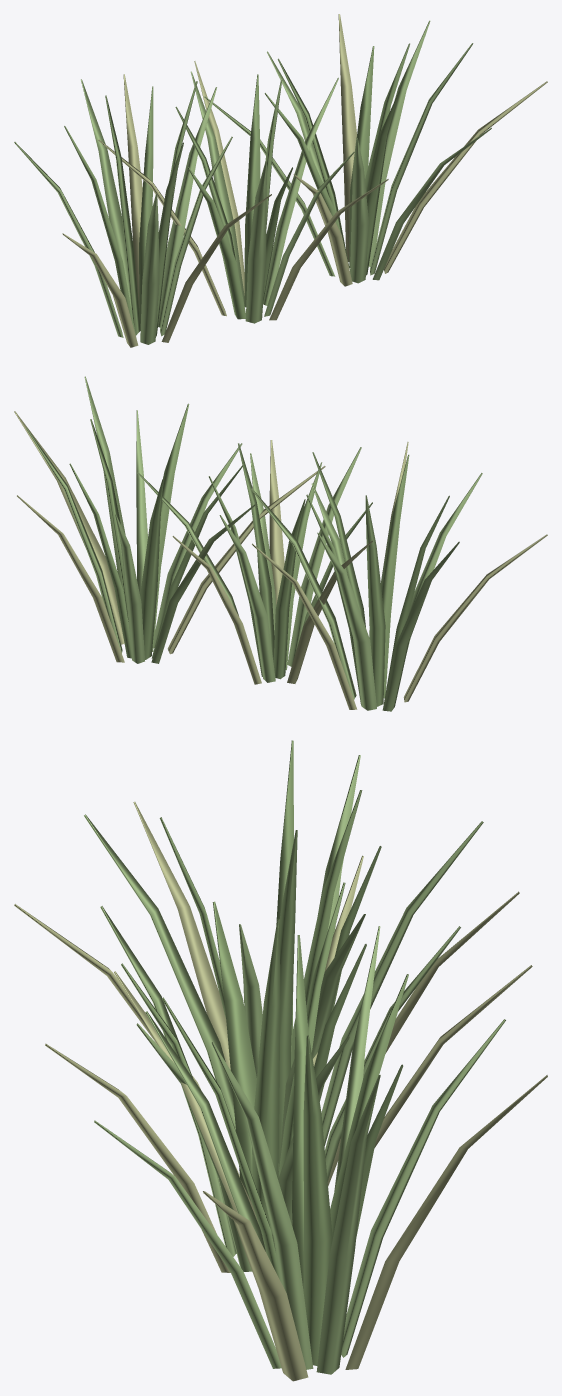
Rendered from campo_grass_6.glb.
The picture shows the model from 3 angles, top to bottom: view 1: azimuth 30°, elevation 25°; view 2: azimuth 150°, elevation 25°; view 3: azimuth 270°, elevation 25°; orthographic projection. The views are drawn at different scales.
Visible parts, largest first — view 1: CampoGrassFresh, CampoGrassDeep, CampoGrassGold; view 2: CampoGrassFresh, CampoGrassDeep, CampoGrassGold; view 3: CampoGrassFresh, CampoGrassDeep, CampoGrassGold.
Boxes of the visible parts, x1,y1,x2,y2 form: CampoGrassFresh: (14,20,491,344); CampoGrassDeep: (64,43,409,336); CampoGrassGold: (62,14,547,347); CampoGrassFresh: (26,376,482,711); CampoGrassDeep: (69,403,449,706); CampoGrassGold: (14,411,547,709); CampoGrassFresh: (84,755,505,1374); CampoGrassDeep: (121,740,408,1365); CampoGrassGold: (14,801,547,1381).
Size of the model in its own units: 1.43 by 0.6412 by 0.7832.
